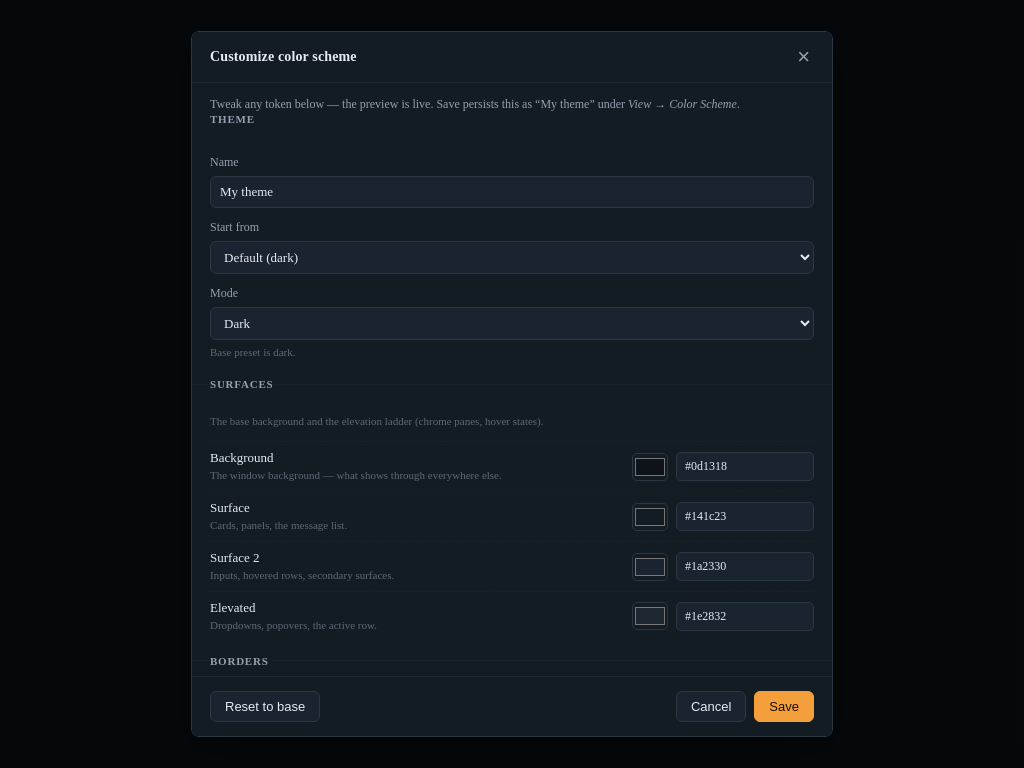
ThemeDesigner — base picker › re-seeds from the Repository Dark bundled snapshot
Select "Repository Dark" in the dropdown with test id "theme-designer-base": (512, 258) [210,241,814,274]
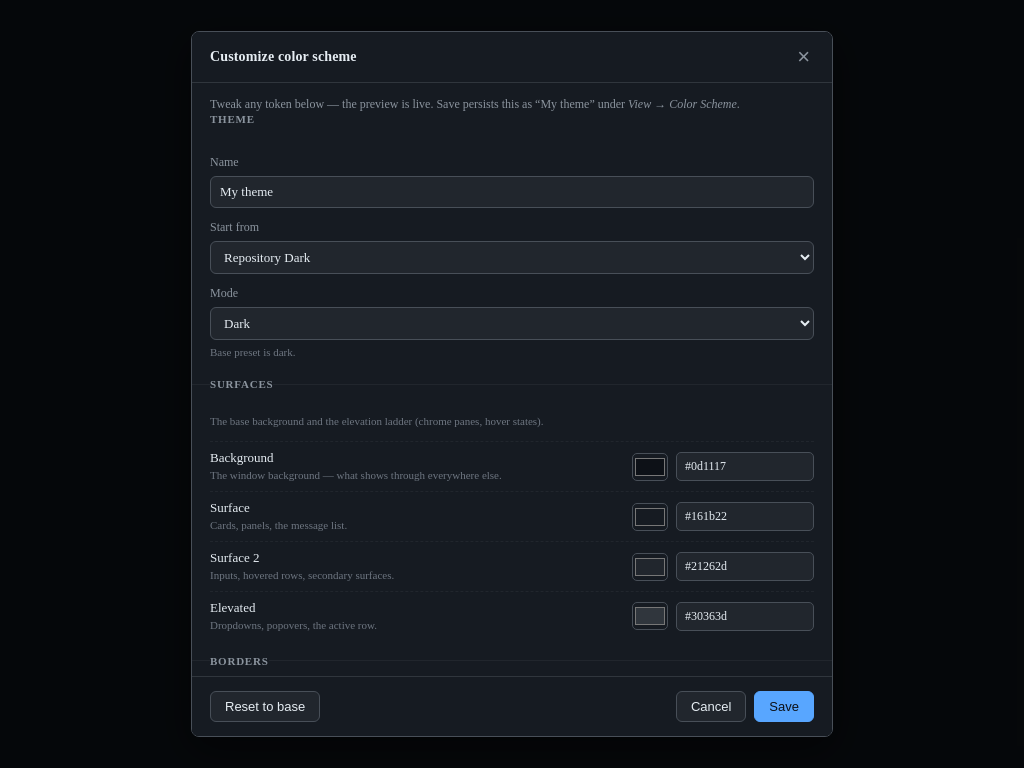
Expected: the dropdown with test id "theme-designer-mode" shows "Dark", [210,307,814,340]
Expected: the field with test id "theme-designer-text-bg" holds "#0d1117", [676,452,814,481]
